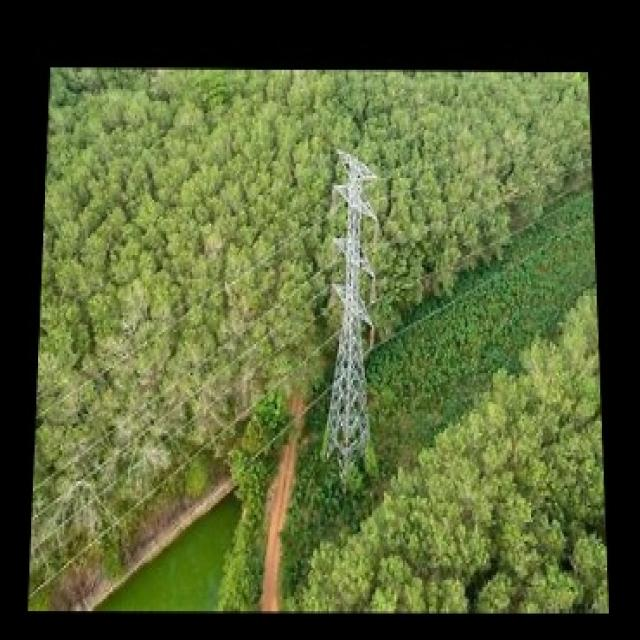utility poles: (310, 118, 396, 484)
